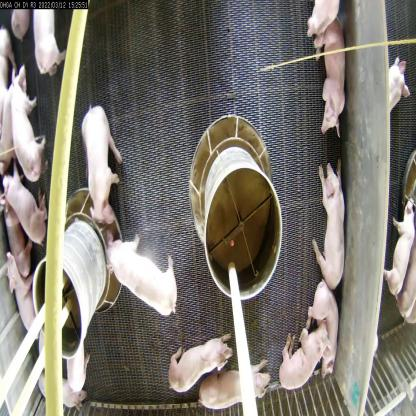Pig: (82, 93, 132, 232), (116, 232, 182, 323), (309, 13, 353, 138), (309, 154, 347, 296), (168, 324, 232, 394), (5, 67, 46, 172), (199, 362, 272, 415), (7, 169, 55, 248), (283, 320, 329, 401), (311, 287, 341, 378)
